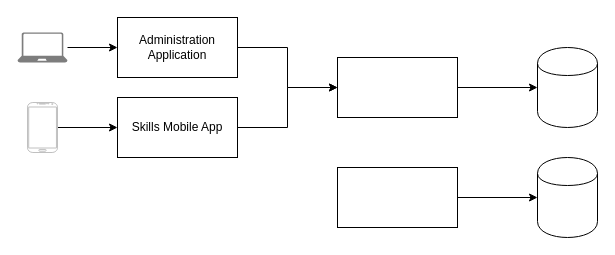
This 615x255 diagram has some shape labels left out. Here are the shapes that lost their labels. From the top down, the centre of each, then its label:
At pixel 397 87: "skills service".
At pixel 397 197: "keycloak".
